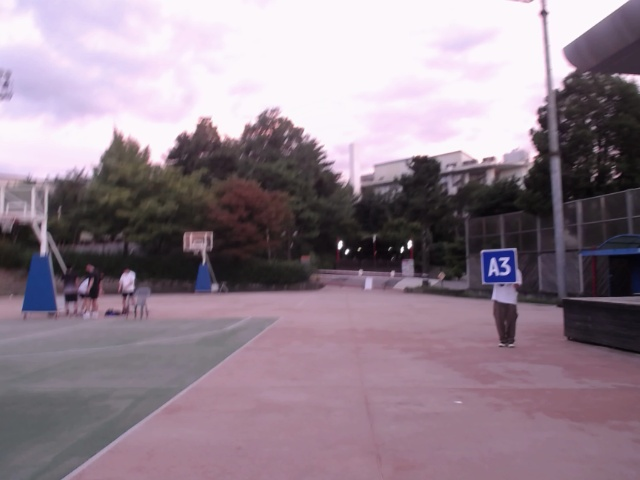delivery_a3: (481, 249, 517, 284)
